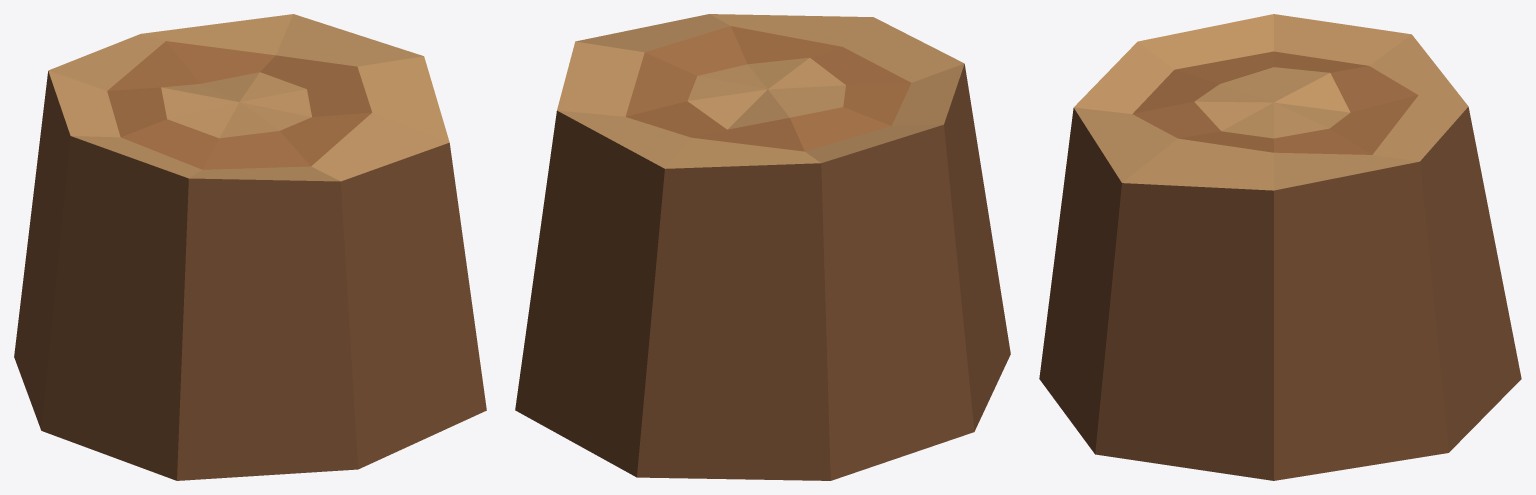
File: Stump.fbx
3 renders of one model, left to right at view 1: azimuth 30°, elevation 25°; view 2: azimuth 150°, elevation 25°; view 3: azimuth 270°, elevation 25°, orthographic. The views are drawn at different scales.
Visible parts, largest first — view 1: Stump; view 2: Stump; view 3: Stump.
Part boxes in pixels (x1,y1,x2,y2): Stump: [14, 14, 486, 480]; Stump: [515, 14, 1010, 480]; Stump: [1039, 14, 1521, 480].
Bounding box in the file's own units: 100 × 67.84 × 104.
